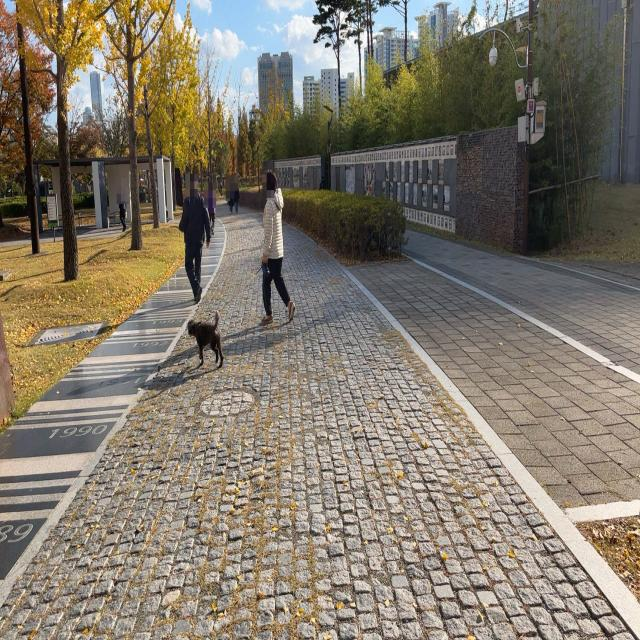Leashed_Dog: (188, 252, 273, 366)
